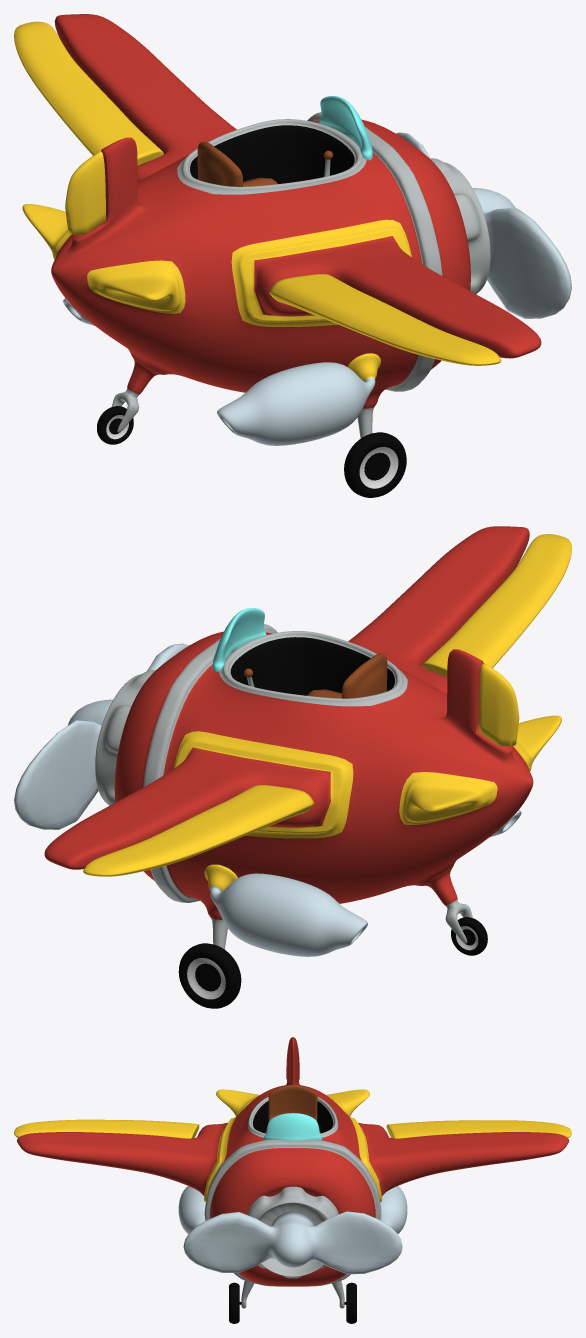
The model's file is PlaneAnimationALL.gltf.
3 renders of one model, top to bottom at view 1: azimuth 30°, elevation 25°; view 2: azimuth 150°, elevation 25°; view 3: azimuth 270°, elevation 25°, orthographic. The views are drawn at different scales.
Parts seen in each view (by area): view 1: Body, Propeller, Controll.R, Controll.L, BackControll; view 2: Body, Propeller, Controll.L, Controll.R, BackControll; view 3: Body, Propeller, Controll.R, Controll.L.
Boxes of the visible parts, x1=… form: Body: x1=22, y1=14, x2=541, y2=497; Propeller: x1=396, y1=132, x2=571, y2=318; Controll.R: x1=269, y1=274, x2=501, y2=365; Controll.L: x1=14, y1=21, x2=163, y2=165; BackControll: x1=65, y1=151, x2=105, y2=234; Body: x1=44, y1=526, x2=561, y2=1008; Propeller: x1=14, y1=643, x2=188, y2=829; Controll.L: x1=83, y1=785, x2=314, y2=876; Controll.R: x1=422, y1=534, x2=571, y2=677; BackControll: x1=478, y1=663, x2=519, y2=746; Body: x1=17, y1=1037, x2=569, y2=1323; Propeller: x1=183, y1=1211, x2=402, y2=1274; Controll.R: x1=14, y1=1119, x2=199, y2=1138; Controll.L: x1=386, y1=1120, x2=571, y2=1138.
Bounding box in the file's own units: 8.59 × 6.55 × 14.84.
